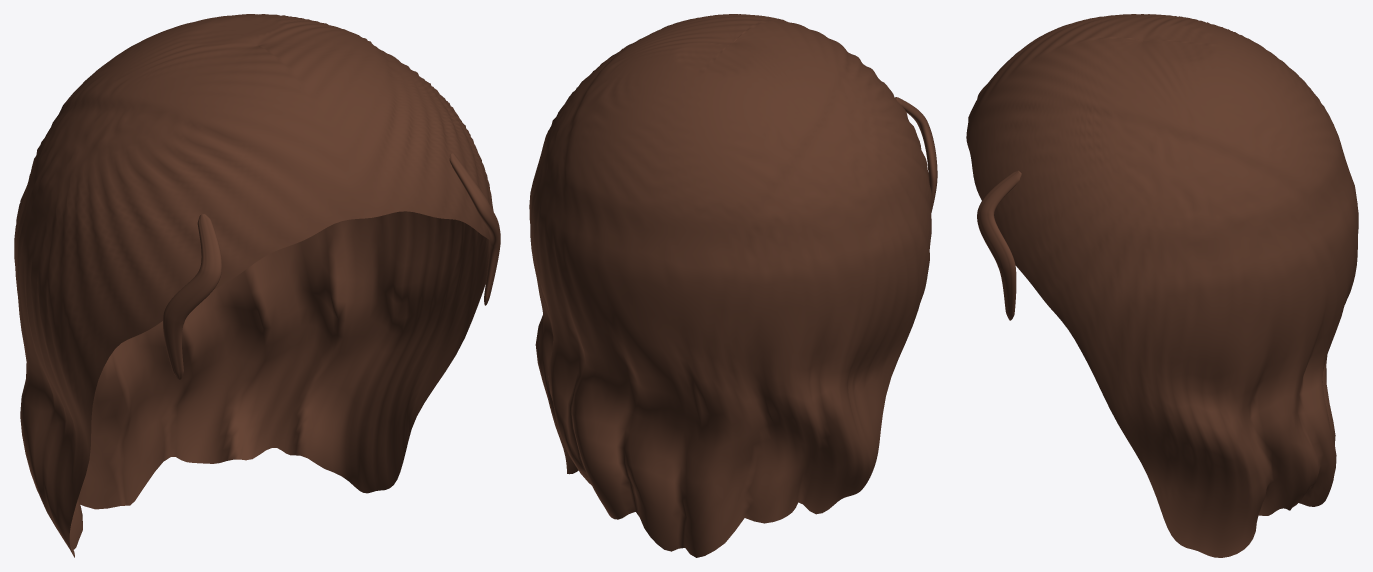
Rendered from space-buns-bucket.glb.
3 views of the same model, side by side, from view 1: azimuth 30°, elevation 25°; view 2: azimuth 150°, elevation 25°; view 3: azimuth 270°, elevation 25° (orthographic). The views are drawn at different scales.
Parts seen in each view (by area): view 1: 226 hair / Hair / chestnut226.002; view 2: 226 hair / Hair / chestnut226.002; view 3: 226 hair / Hair / chestnut226.002.
Part boxes in pixels (x1,y1,x2,y2): 226 hair / Hair / chestnut226.002: (14,14,500,557); 226 hair / Hair / chestnut226.002: (529,14,937,557); 226 hair / Hair / chestnut226.002: (966,14,1358,557).
Bounding box in the file's own units: 0.8048 × 0.965 × 0.7316.
